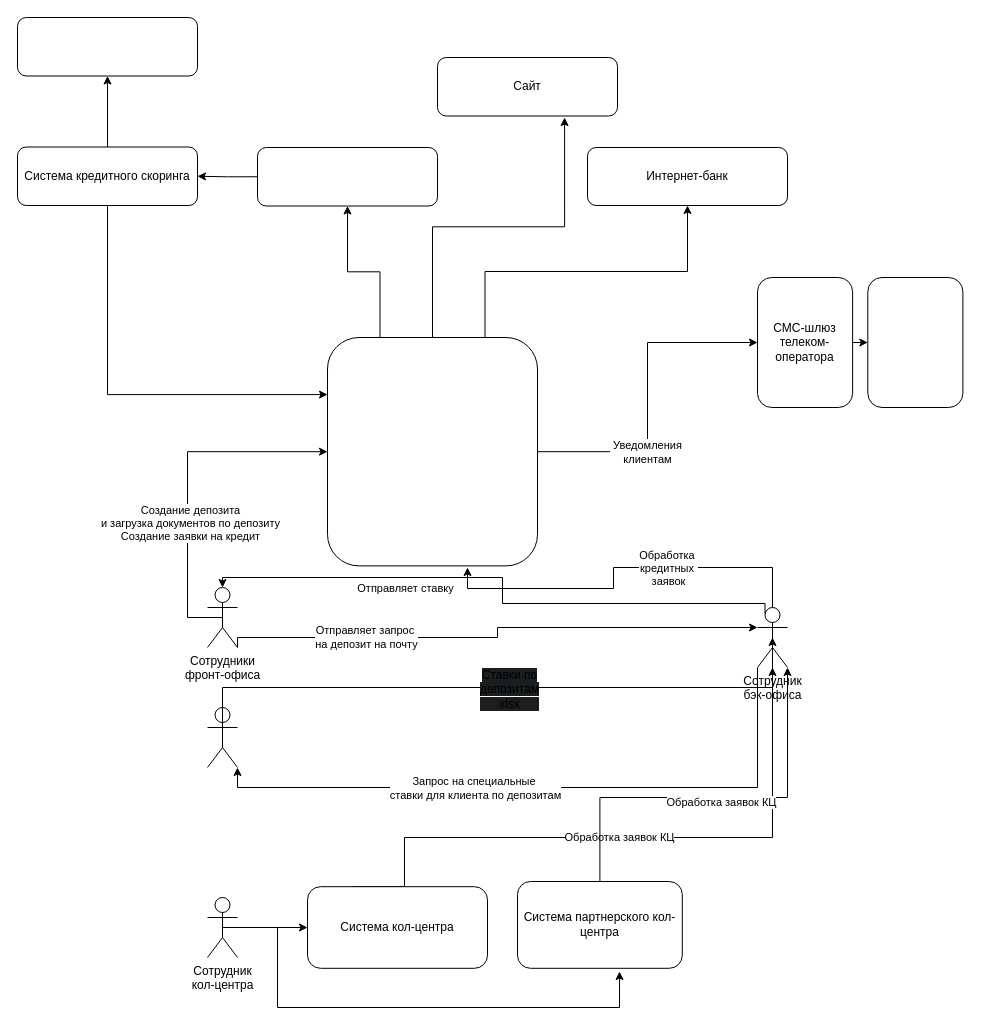
Some shapes in this 981 by 1033 pixel diagram are drawn without their labels. The shapes that lost their labels are listed below. From the top down, each one's box as (x1, y1, x2, y2) in pixels, then its label:
(16, 16, 198, 76): Бюро кредитный историй
(256, 146, 438, 206): Кредитный конвейер
(867, 276, 963, 408): Телеком-оператор
(326, 336, 538, 566): АБС (автоматизированная банковская система )
(206, 706, 238, 768): Сотрудники отдела кредитования
